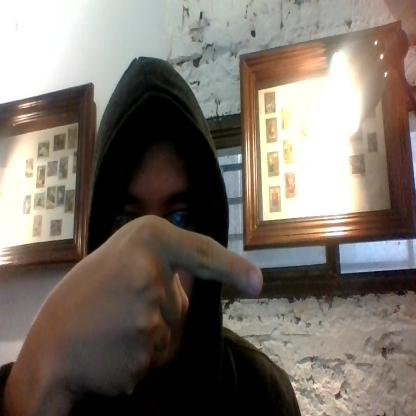left: (41, 209, 264, 399)
